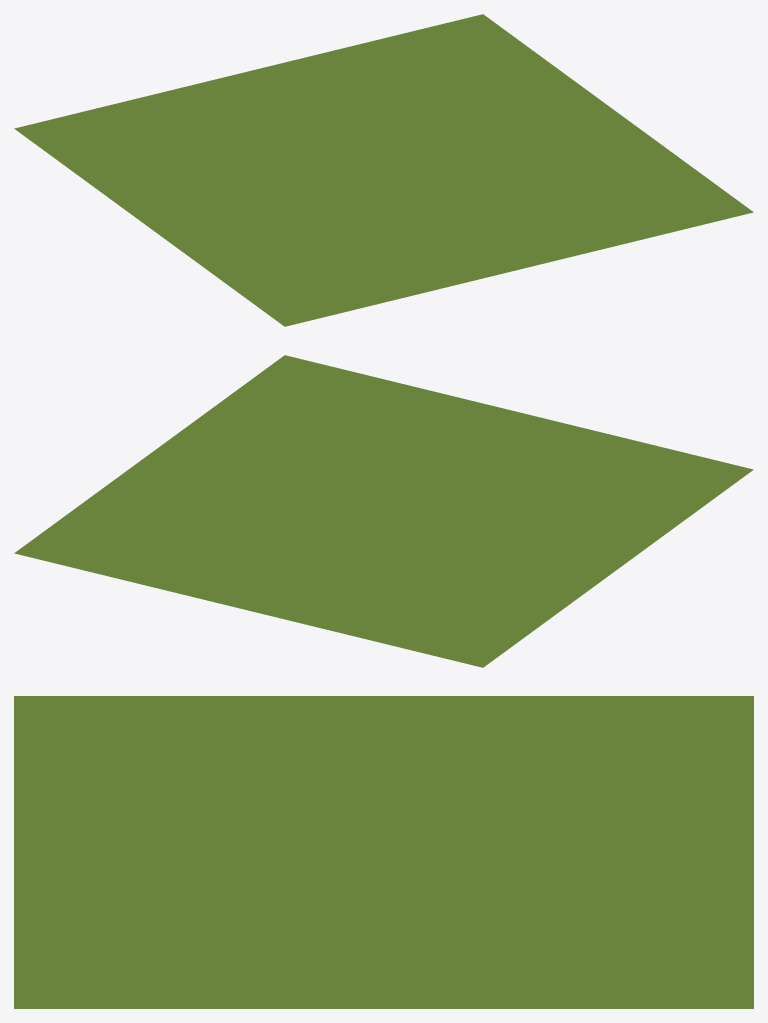
Rendered from cure-35-0.glb.
The picture shows the model from 3 angles, top to bottom: view 1: azimuth 30°, elevation 25°; view 2: azimuth 150°, elevation 25°; view 3: azimuth 270°, elevation 25°; orthographic projection. The views are drawn at different scales.
Parts seen in each view (by area): view 1: cure-35-0; view 2: cure-35-0; view 3: cure-35-0.
Boxes of the visible parts, x1=… form: cure-35-0: x1=14, y1=14, x2=753, y2=326; cure-35-0: x1=14, y1=355, x2=753, y2=667; cure-35-0: x1=14, y1=696, x2=753, y2=1008.
Bounding box in the file's own units: 100 × 0 × 100.
